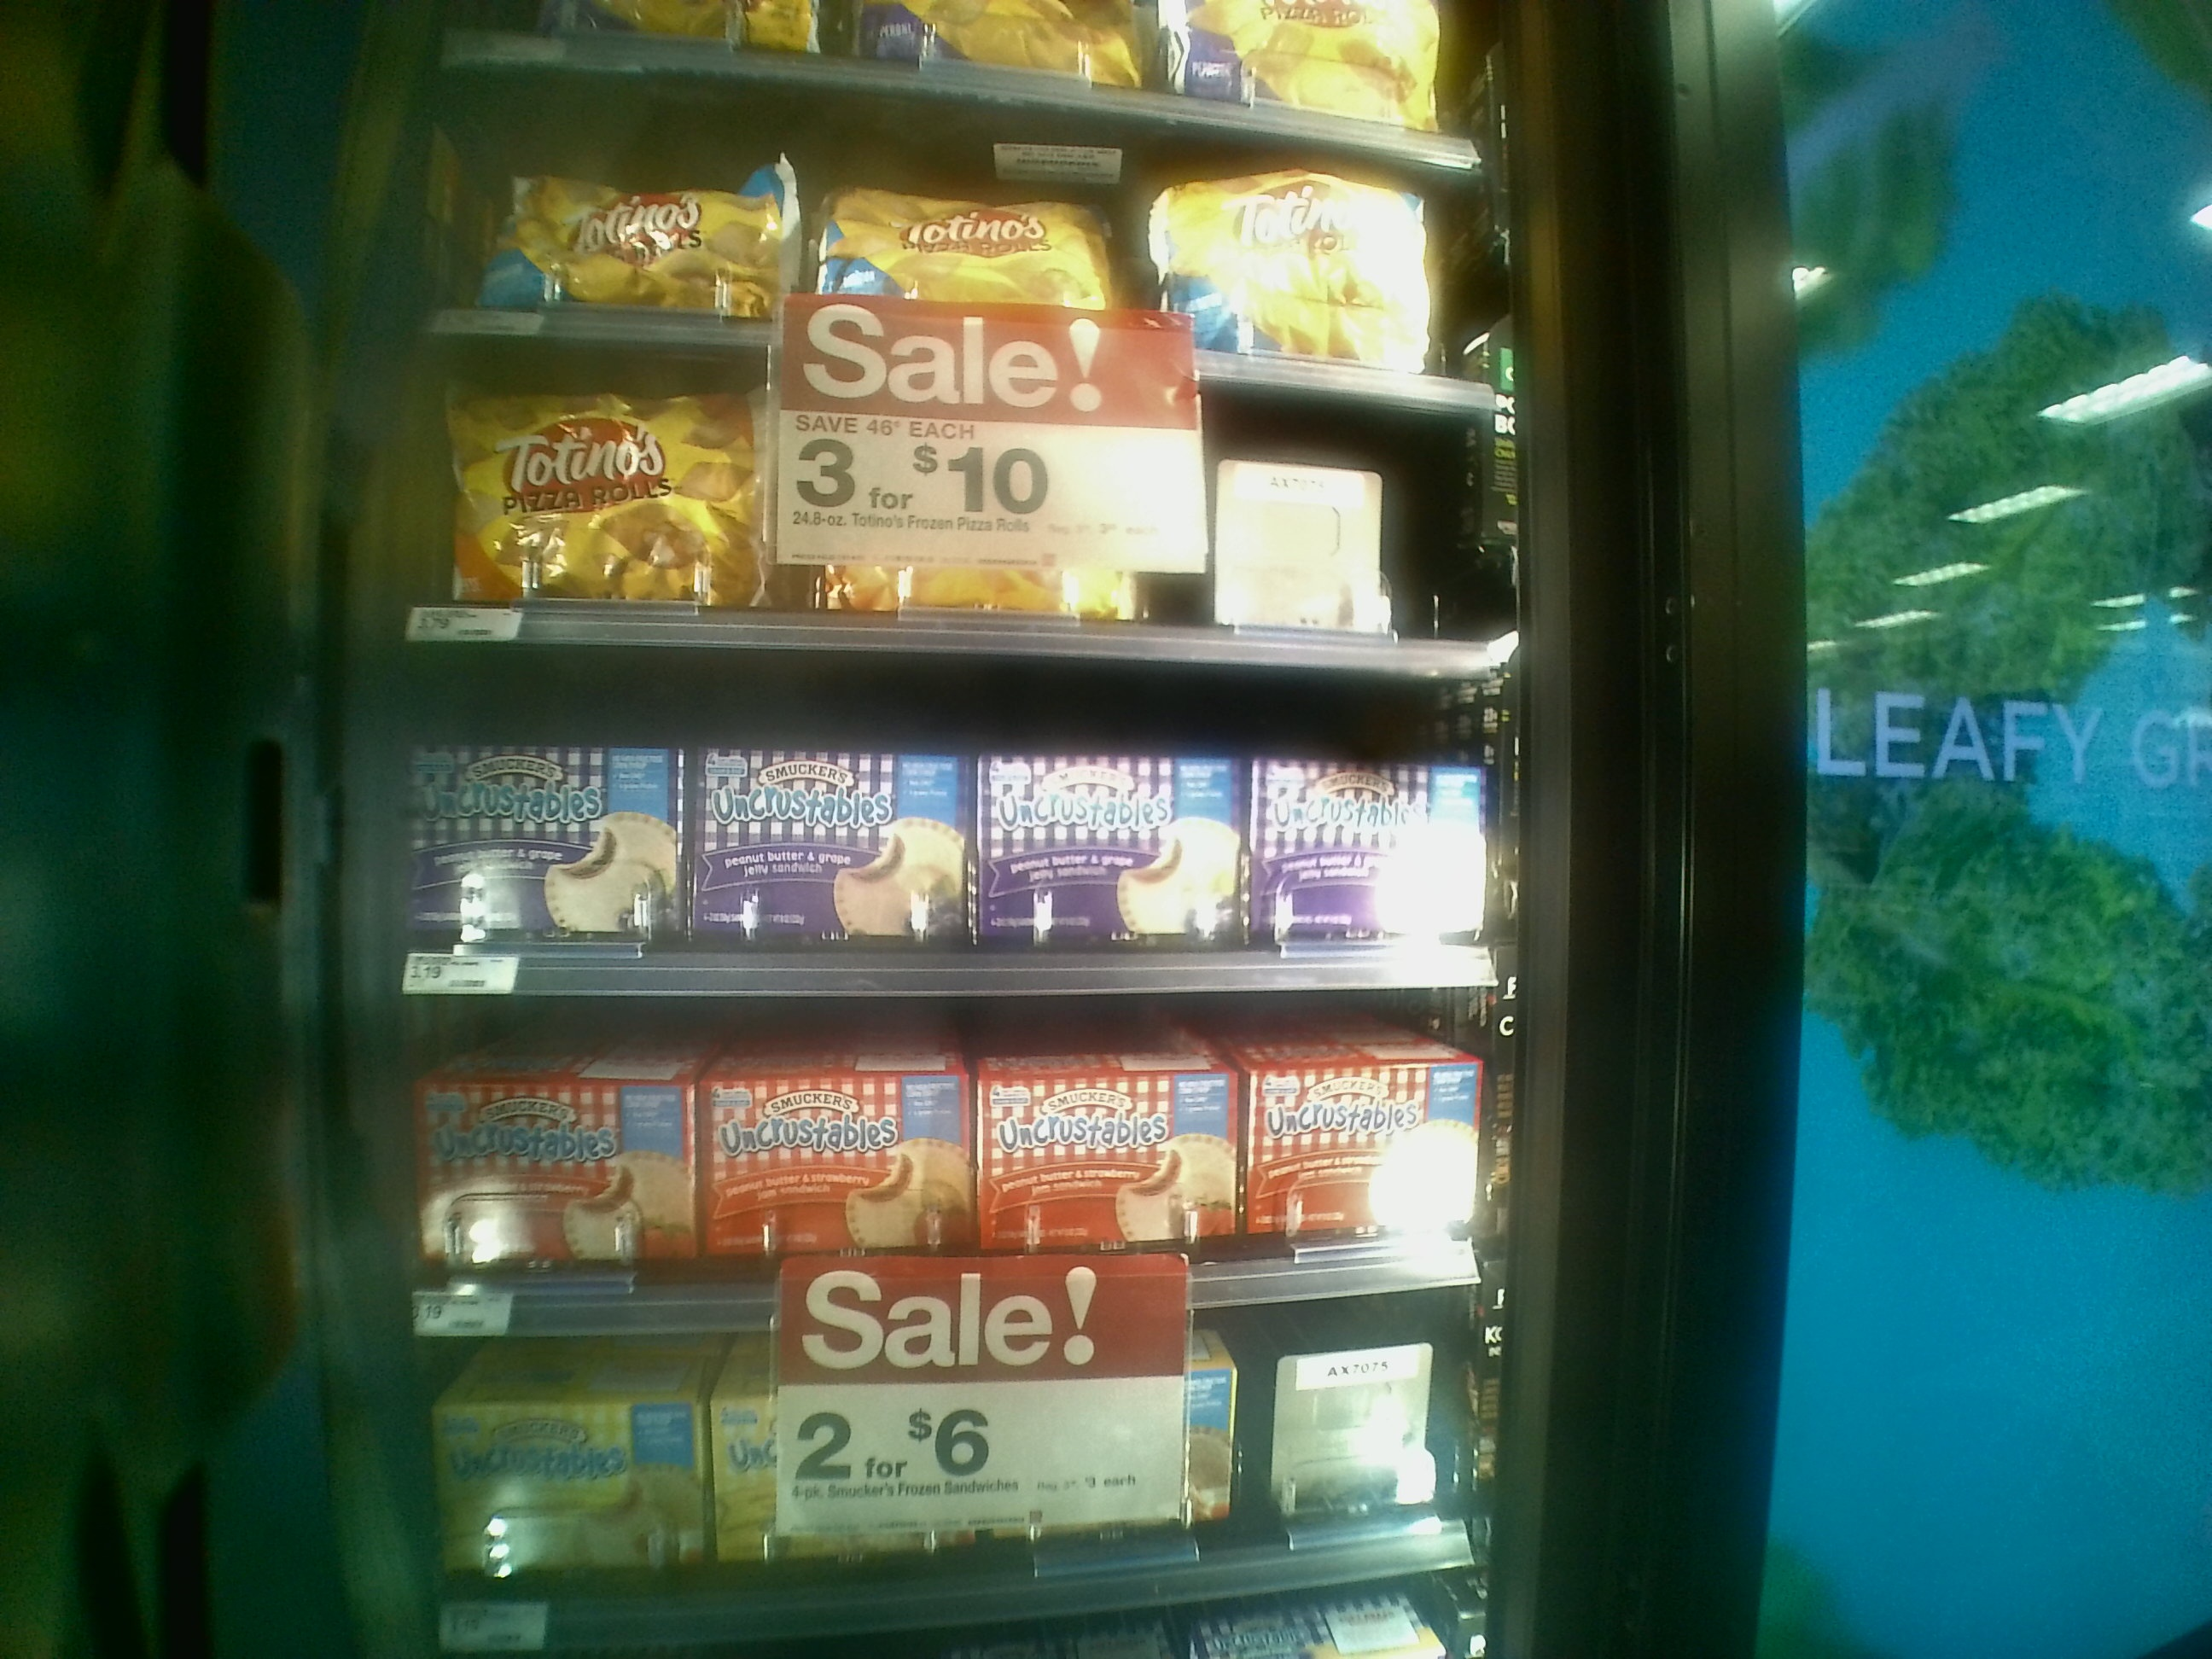shelf: (359, 660, 1519, 999), (388, 64, 1507, 415), (361, 1009, 1501, 1331), (376, 1342, 1493, 1642), (376, 396, 1498, 678)
